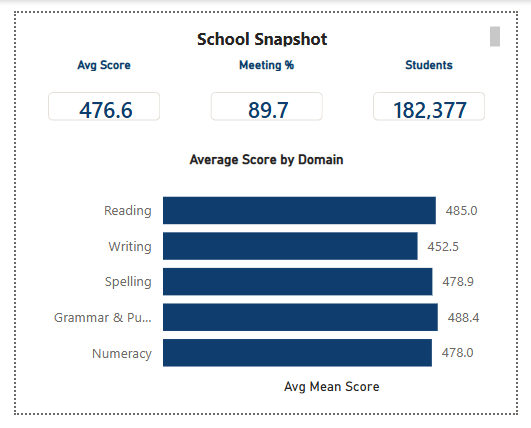

The page's visual inventory and layout, read from the dashboard file:
{"tool":"powerbi","page":{"name":"School Snapshot (Tooltip)","canvas":[400,320],"ordinal":3},"visuals":[{"type":"textbox","box":[8,6,384,26],"z":0},{"type":"cardVisual","title":"Avg Score","fields":{"Data":["NAPLAN_Scores.Avg Mean Score"]},"box":[8,36,124,68],"z":1},{"type":"cardVisual","title":"Meeting %","fields":{"Data":["NAPLAN_Scores.Avg % at or above NMS"]},"box":[138,36,124,68],"z":2},{"type":"cardVisual","title":"Students","fields":{"Data":["NAPLAN_Scores.Students Tested"]},"box":[268,36,124,68],"z":3},{"type":"clusteredBarChart","title":"Average Score by Domain","fields":{"Category":["NAPLAN_Scores.Domain Label"],"Y":["NAPLAN_Scores.Avg Mean Score"]},"box":[8,110,384,200],"z":4}]}

Visuals, with their boxes in screenshot pixels (x1, y1, x2, y2), scaled from the page's 400x320 canvas onto the 531x428 screenshot:
textbox: select_region(11, 8, 520, 43)
"Avg Score" cardVisual: select_region(11, 48, 175, 139)
"Meeting %" cardVisual: select_region(183, 48, 348, 139)
"Students" cardVisual: select_region(356, 48, 520, 139)
"Average Score by Domain" clusteredBarChart: select_region(11, 147, 520, 415)
